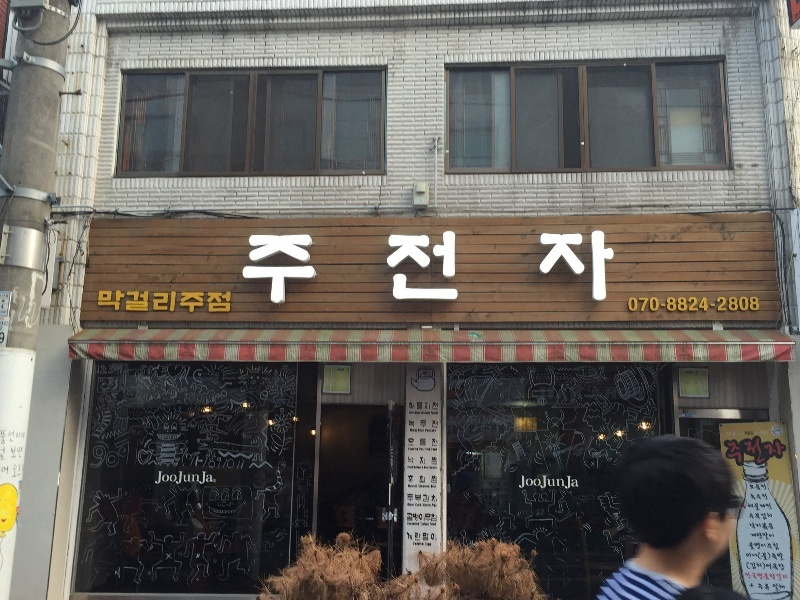text: (257, 230, 272, 306), (273, 230, 288, 306), (289, 230, 304, 306), (305, 230, 320, 306), (321, 230, 336, 306), (337, 230, 352, 306), (353, 230, 368, 306), (369, 230, 384, 306), (385, 230, 400, 306), (401, 230, 416, 306), (417, 230, 432, 306), (433, 230, 448, 306), (449, 230, 464, 306), (465, 230, 480, 306), (481, 230, 496, 306), (497, 230, 512, 306), (513, 230, 528, 306), (529, 230, 544, 306), (545, 230, 560, 306), (561, 230, 576, 306), (577, 230, 592, 306), (593, 230, 608, 306), (243, 230, 256, 306), (609, 230, 616, 306), (737, 437, 752, 469), (753, 437, 768, 469), (769, 437, 784, 469), (722, 437, 736, 469), (97, 289, 112, 315), (113, 289, 128, 315), (129, 289, 144, 315), (145, 289, 160, 315), (161, 289, 176, 315), (177, 289, 192, 315), (193, 289, 208, 315), (209, 289, 224, 315), (641, 295, 656, 315), (657, 295, 672, 315), (673, 295, 688, 315), (689, 295, 704, 315), (705, 295, 720, 315), (721, 295, 736, 315), (737, 295, 752, 315), (627, 295, 640, 315), (529, 474, 544, 490), (545, 474, 560, 490), (561, 474, 576, 490), (161, 470, 176, 486), (177, 470, 192, 486), (193, 470, 208, 486), (1, 430, 16, 446), (1, 447, 16, 462), (1, 464, 16, 478), (225, 289, 233, 315), (753, 552, 768, 564), (769, 552, 784, 564), (517, 474, 528, 490), (753, 572, 768, 583), (769, 572, 784, 583), (753, 561, 768, 572), (769, 561, 784, 572), (753, 295, 761, 315), (785, 437, 790, 469), (417, 474, 432, 484), (417, 419, 432, 429), (753, 583, 768, 593), (769, 583, 784, 593), (753, 502, 768, 512), (17, 430, 26, 446), (417, 532, 432, 541), (417, 513, 432, 522), (417, 494, 432, 503), (417, 457, 432, 466), (417, 438, 432, 447), (753, 542, 768, 551), (753, 532, 768, 541), (753, 522, 768, 531), (753, 512, 768, 521), (753, 493, 768, 502), (417, 402, 432, 410), (753, 484, 768, 492), (769, 542, 780, 551), (417, 541, 432, 547), (417, 521, 432, 527), (417, 502, 432, 508), (417, 428, 432, 434), (417, 410, 432, 416), (406, 532, 416, 541), (407, 474, 416, 484), (744, 572, 752, 583), (17, 446, 23, 460), (407, 513, 416, 522), (407, 494, 416, 503), (209, 470, 214, 486), (417, 484, 432, 489), (417, 465, 432, 470), (417, 447, 432, 452), (408, 457, 416, 466), (408, 438, 416, 447), (746, 552, 752, 564), (409, 419, 416, 429), (409, 401, 416, 411), (11, 446, 16, 460), (746, 561, 752, 572), (577, 474, 581, 490), (425, 402, 432, 411), (433, 419, 439, 429), (407, 521, 416, 527), (407, 502, 416, 508), (433, 402, 439, 411), (769, 532, 775, 541), (769, 522, 775, 531), (433, 474, 438, 484), (747, 502, 752, 512), (157, 470, 160, 486), (407, 465, 416, 470), (407, 447, 416, 452), (433, 457, 438, 466), (433, 438, 438, 447), (785, 572, 789, 583), (409, 410, 416, 416), (433, 410, 440, 416), (408, 484, 416, 489), (769, 502, 773, 512), (410, 428, 416, 434), (433, 532, 437, 541), (433, 513, 437, 522), (433, 494, 437, 503), (748, 542, 752, 551), (748, 512, 752, 521), (769, 512, 773, 521), (433, 502, 438, 508), (749, 583, 752, 593), (749, 522, 752, 531), (433, 465, 438, 470), (433, 447, 438, 452), (433, 521, 437, 527), (433, 428, 437, 434), (785, 552, 787, 564), (749, 484, 752, 492), (433, 484, 437, 489), (413, 541, 416, 547), (750, 532, 752, 541), (750, 493, 752, 502), (17, 464, 18, 478), (785, 561, 786, 572), (785, 583, 786, 593), (769, 493, 770, 502)
